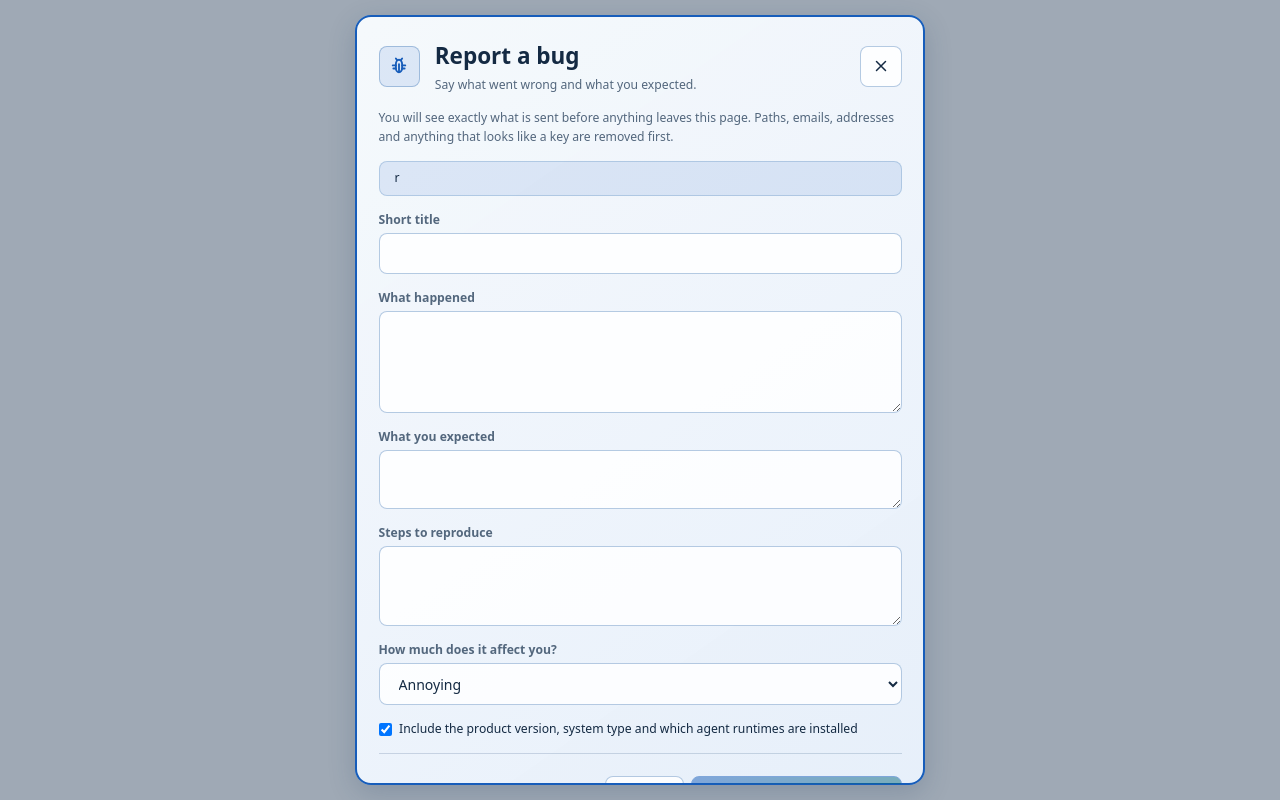
Test: shows the server refusal and keeps the report so nothing is lost
Type "Title" into the field labelled "Short title".
click(640, 254); type("Title")  # box [378, 233, 902, 274]
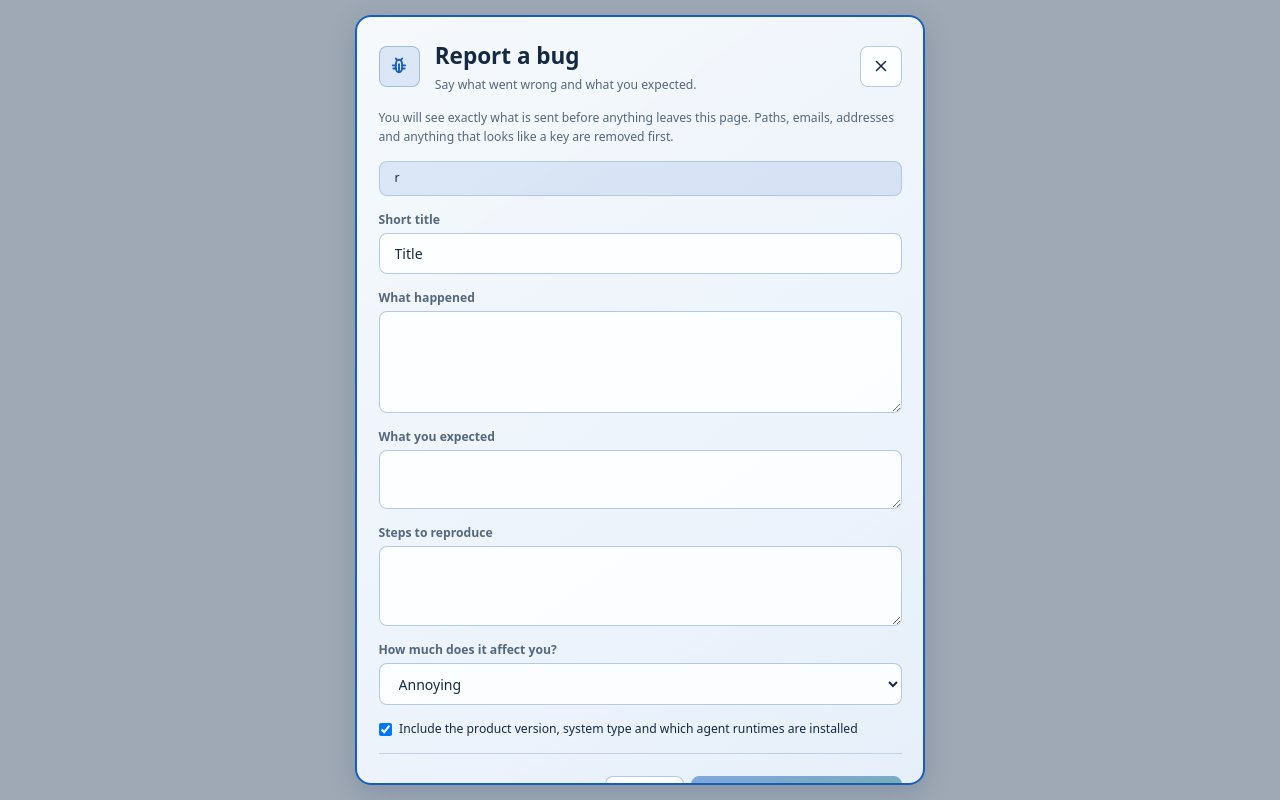
Type "x" into the text box labelled "What happened".
click(640, 362); type("x")  # box [378, 311, 902, 413]
(page scrolled)
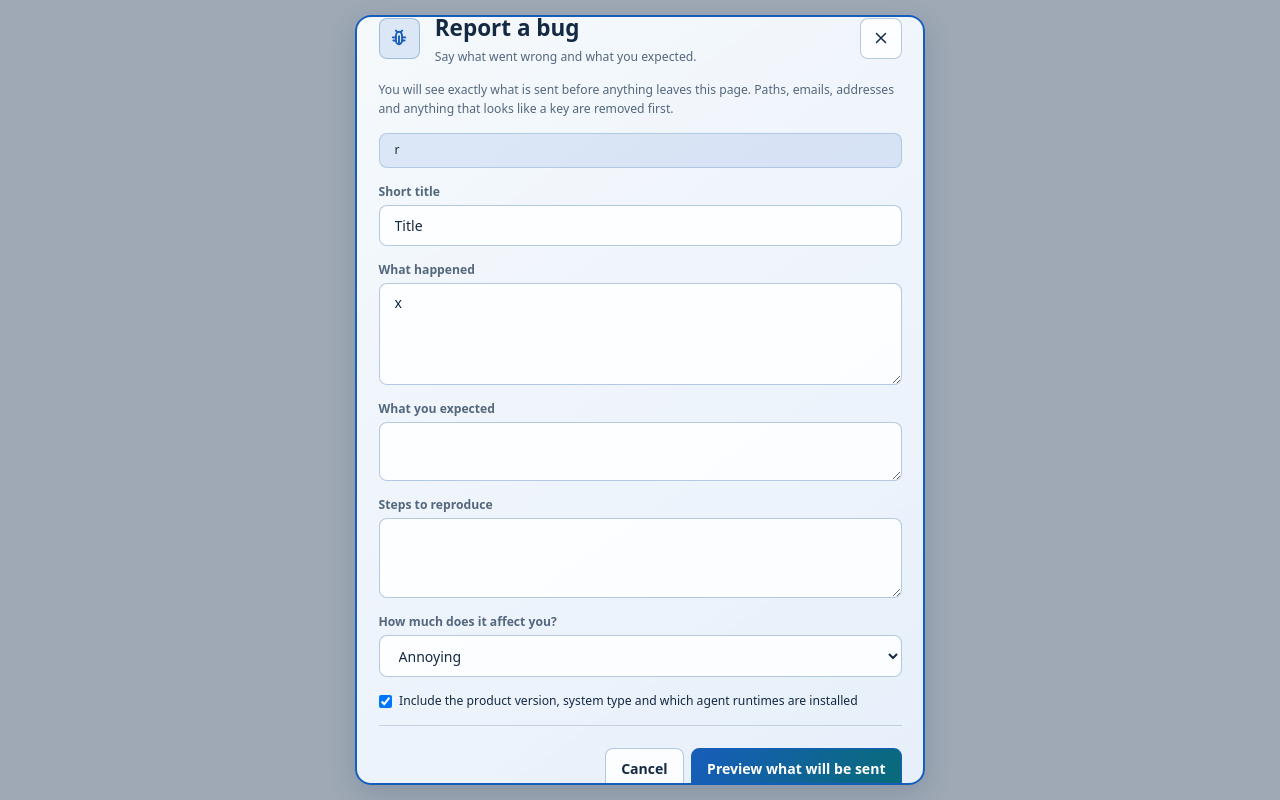
Submit the form
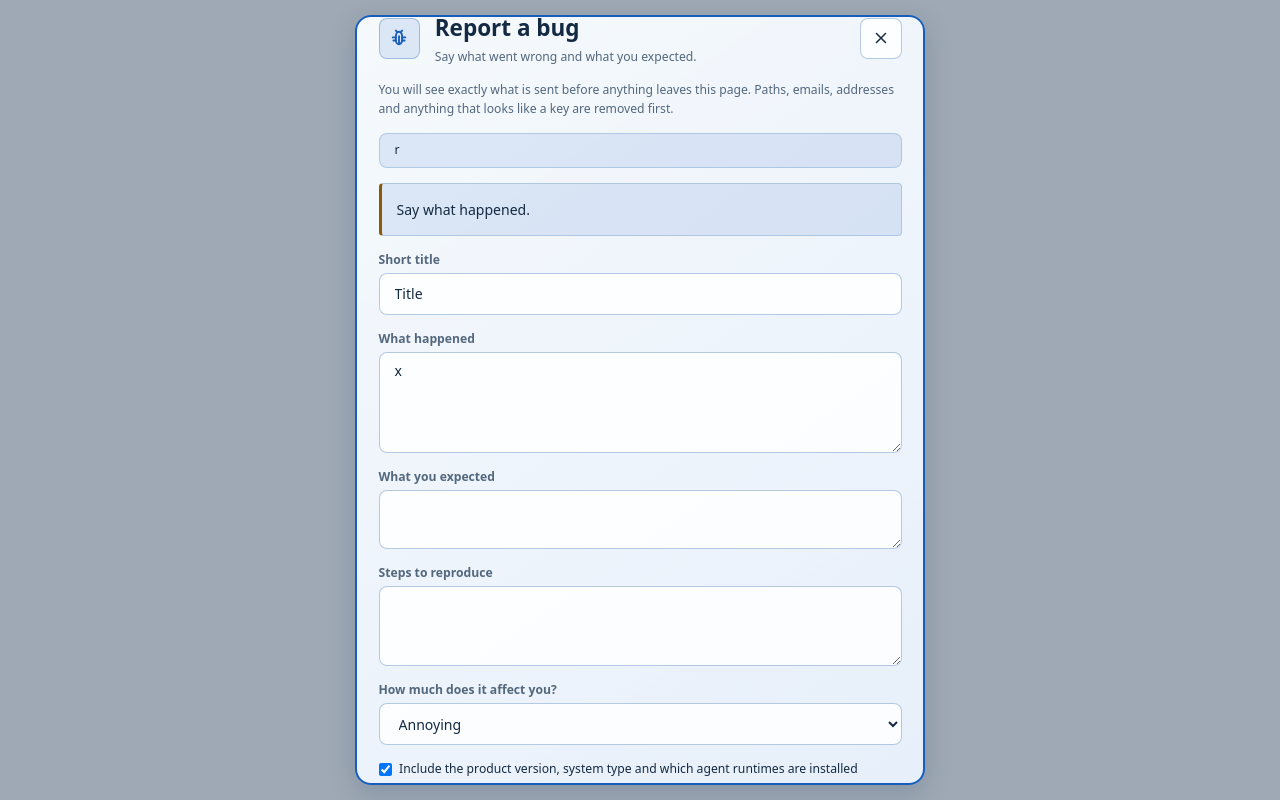
Result: the message "Say what happened." is shown at [378, 183, 902, 236]
